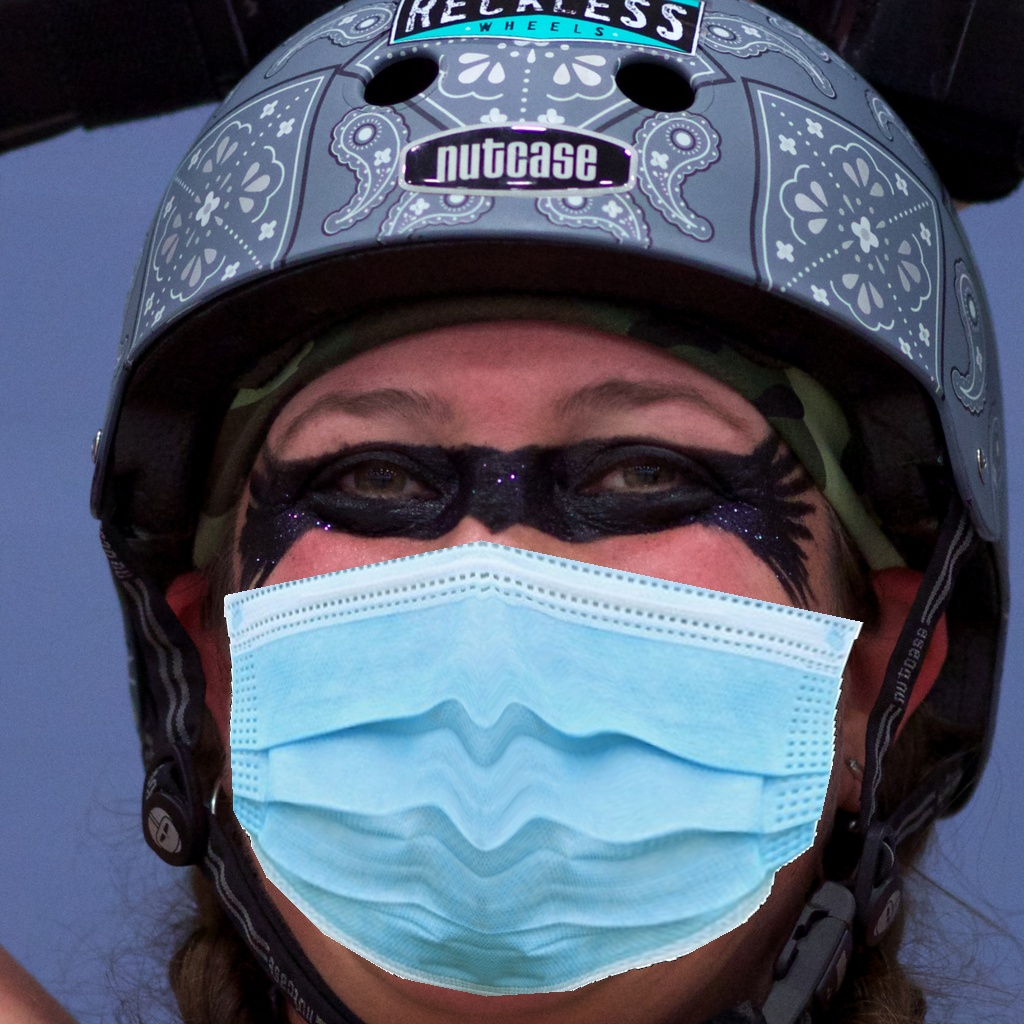Mask: (214, 404, 857, 994)
